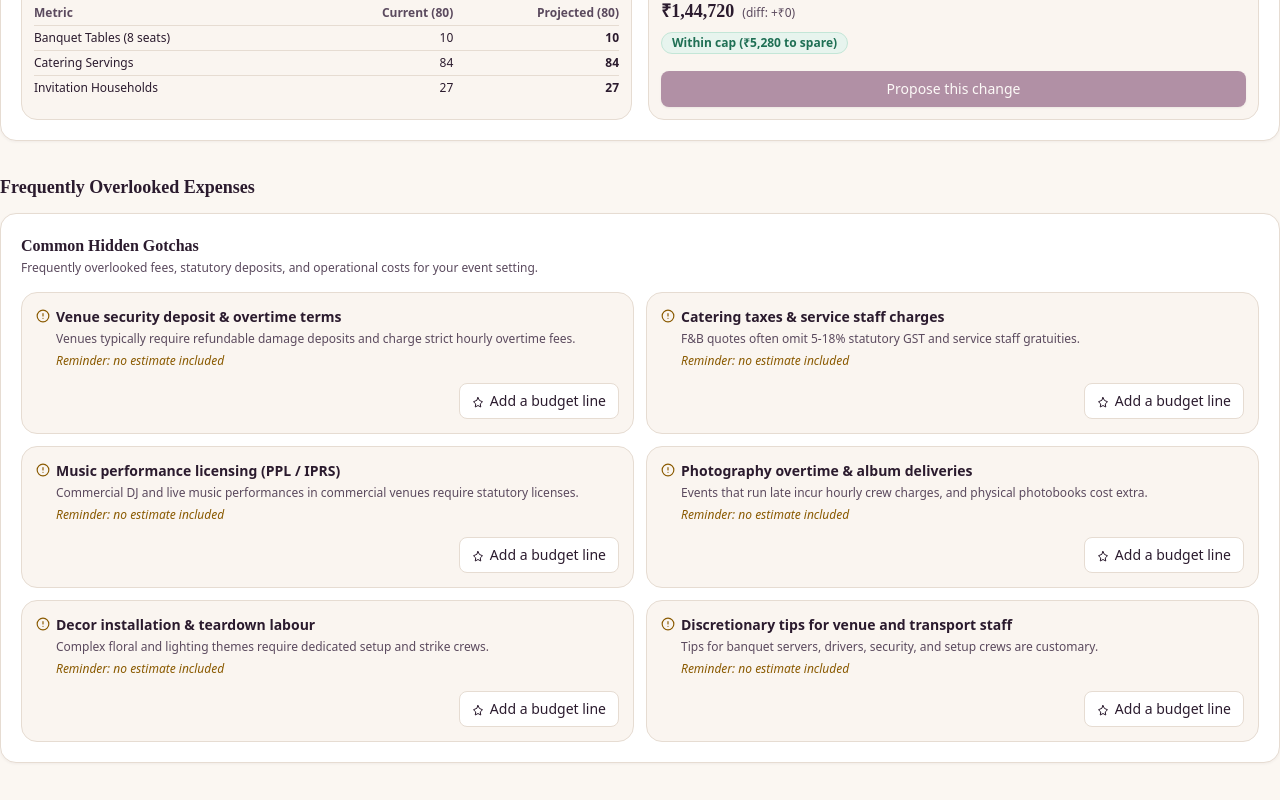
Test: Budget Guardian Page & Components › opens AddItemDialog with prefill from ForgottenCostsList with price at 0
The image size is (1280, 800).
(page scrolled)
Note: Click "Add a budget line" on first forgotten cost
Click the button "Add a budget line" below "Venue security deposit & overtime terms": coordinates (539, 401) [459,383,619,419]
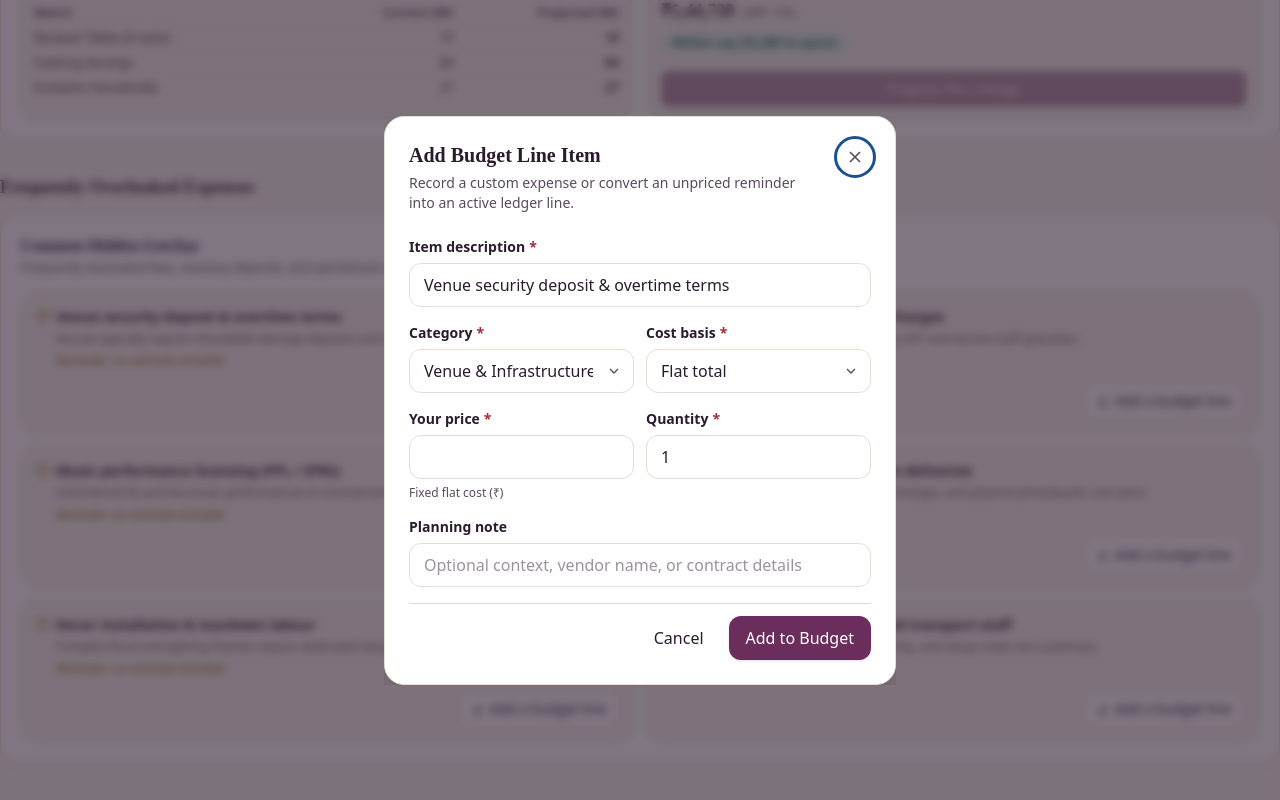
Check: the dialog "Add Budget Line Item" is shown, box [384,116,896,684]
Check: the number field labelled "Your price *" is empty, box [409,434,634,478]
